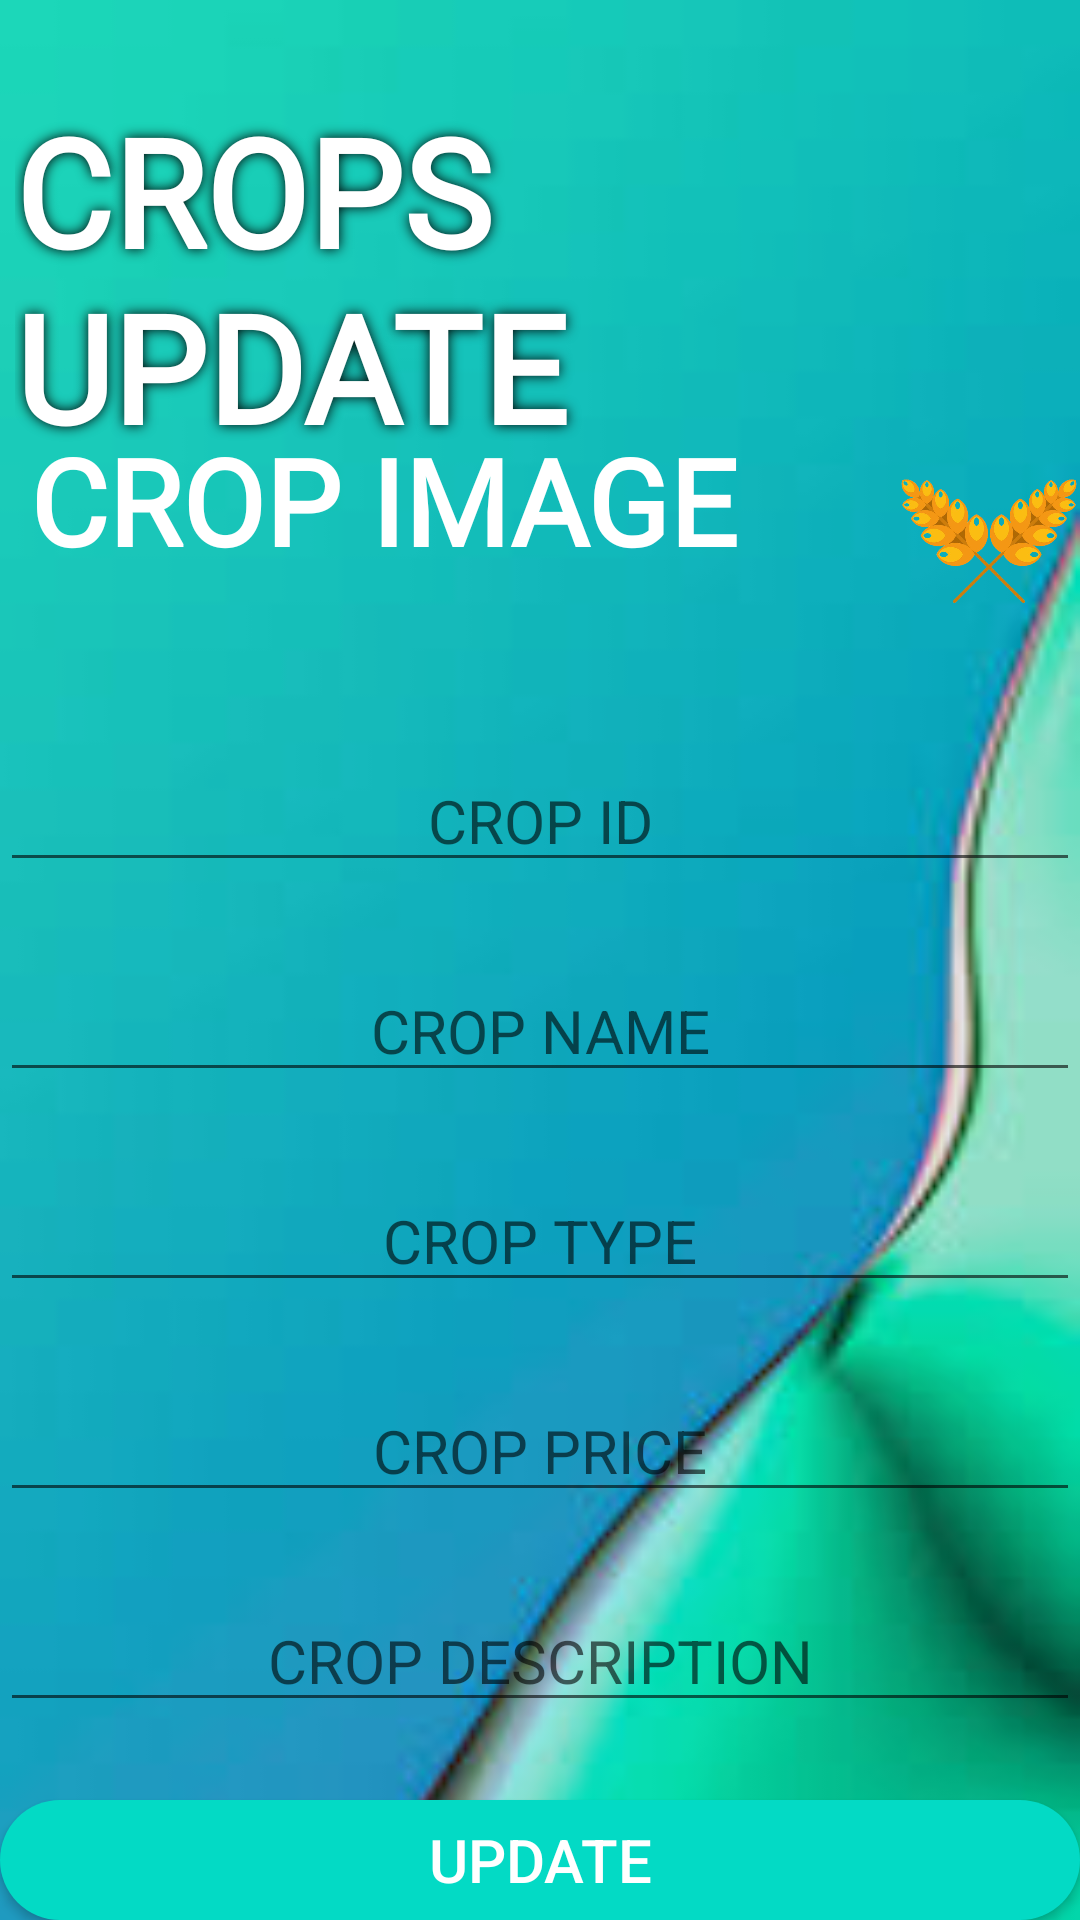

Icons on this 1080x1920 Android screen, each with its box as detection(x1, y1, x2, y2):
crop dash: detection(901, 479, 1077, 670)
